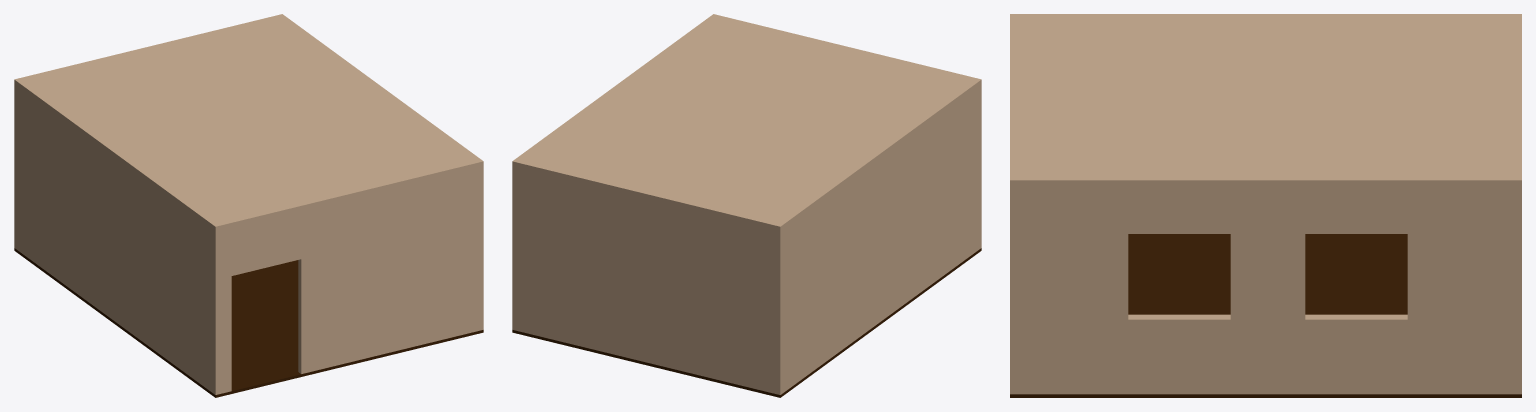
Rendered from Kitchen.gltf.
3 views of the same model, side by side, from view 1: azimuth 30°, elevation 25°; view 2: azimuth 150°, elevation 25°; view 3: azimuth 270°, elevation 25° (orthographic). The views are drawn at different scales.
Parts seen in each view (by area): view 1: roof, wall2, wall, floor, wall3, wall4; view 2: roof, wall3, wall, wall2, floor, wall4; view 3: wall4, roof, floor, wall3, wall2, wall.
Part boxes in pixels (<box>): roof: <box>16,17,471,227</box>; wall2: <box>212,159,483,394</box>; wall: <box>17,80,217,392</box>; floor: <box>14,248,483,397</box>; wall3: <box>14,14,284,249</box>; wall4: <box>278,16,479,160</box>; roof: <box>519,15,981,227</box>; wall3: <box>512,159,783,394</box>; wall: <box>779,81,978,392</box>; wall2: <box>711,14,981,249</box>; floor: <box>512,248,981,397</box>; wall4: <box>516,16,717,160</box>; wall4: <box>1018,175,1513,394</box>; roof: <box>1010,14,1517,176</box>; floor: <box>1010,234,1521,397</box>; wall3: <box>1514,14,1521,394</box>; wall2: <box>1010,14,1017,394</box>; wall: <box>1018,14,1513,17</box>.
Size of the model in its own units: 100 by 61 by 130.
